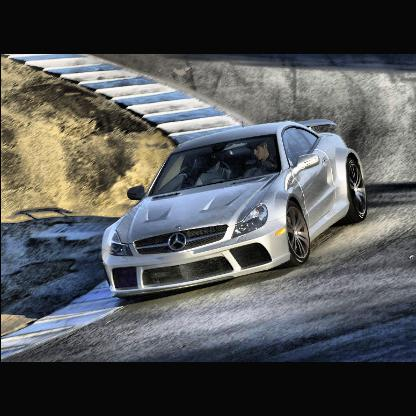Mercedes-Benz SL-Class Coupe 2009: (102, 121, 368, 298)
